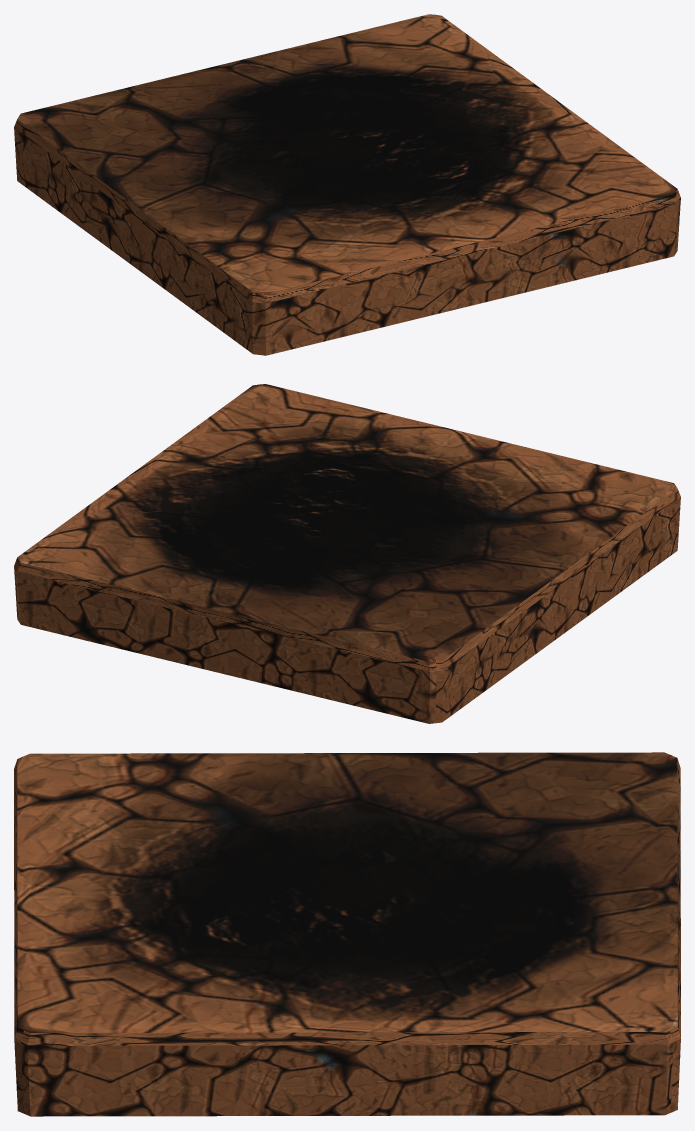
File: GoundBurned.fbx
3 renders of one model, top to bottom at view 1: azimuth 30°, elevation 25°; view 2: azimuth 150°, elevation 25°; view 3: azimuth 270°, elevation 25°, orthographic. The views are drawn at different scales.
Parts seen in each view (by area): view 1: Cube; view 2: Cube; view 3: Cube.
Boxes of the visible parts, left/top/right/bottom form: Cube: left=14, top=14, right=680, bottom=355; Cube: left=14, top=384, right=680, bottom=723; Cube: left=14, top=752, right=680, bottom=1116.
Size of the model in its own units: 202 by 28.93 by 202.
